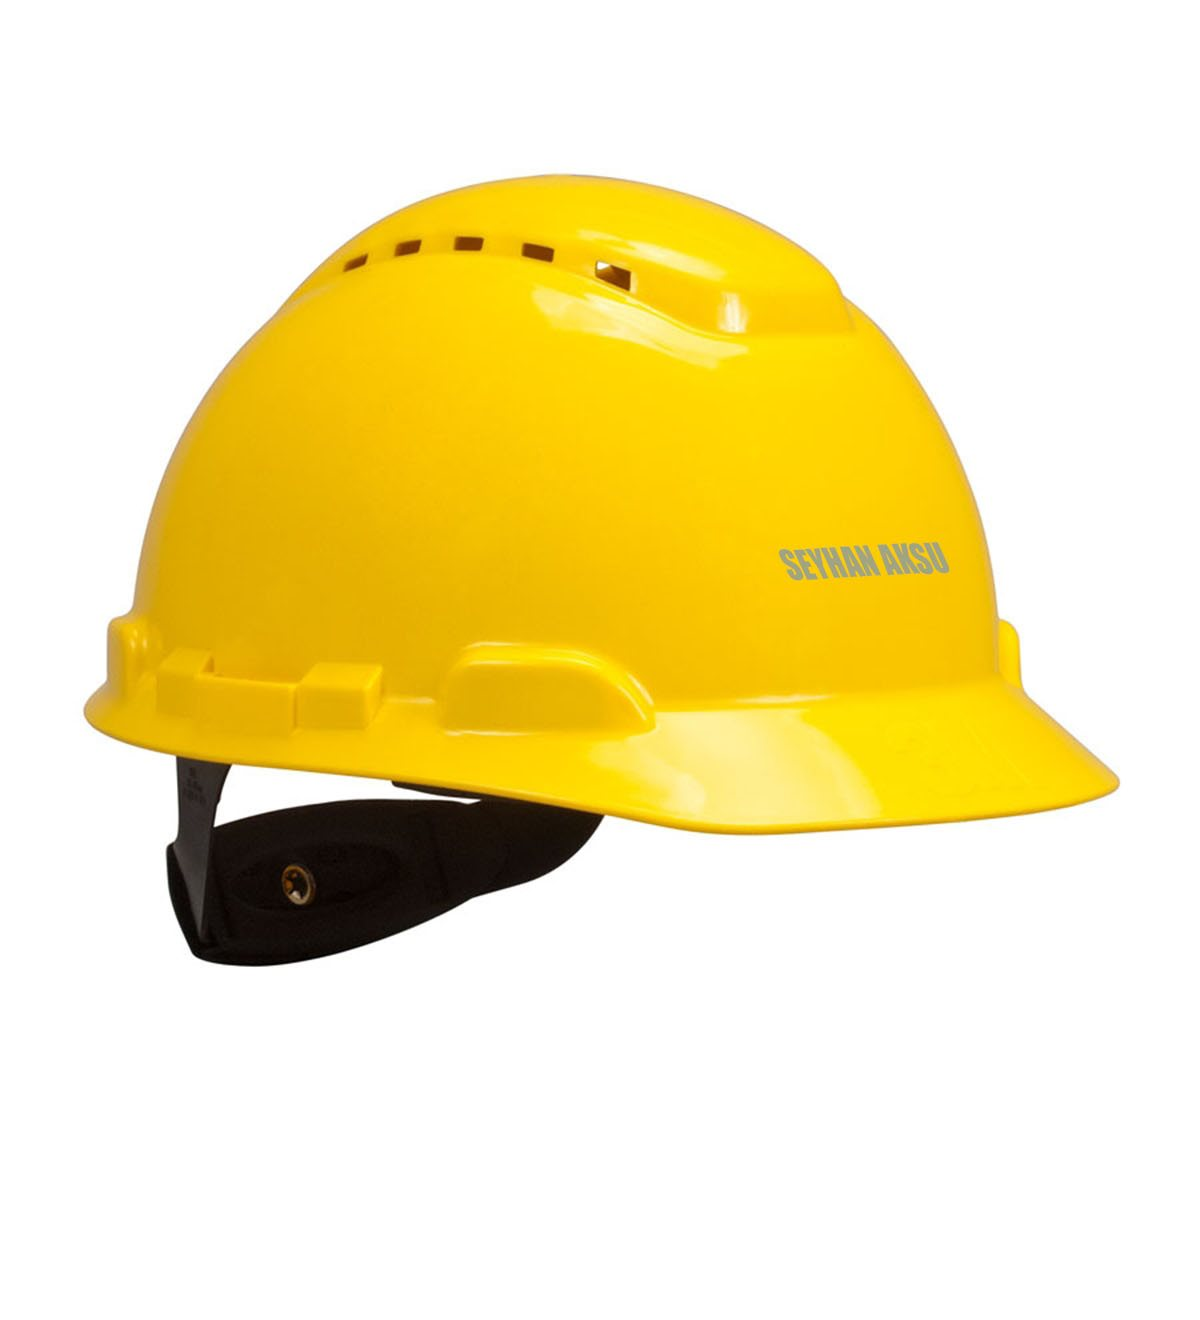baret: (74, 166, 1133, 982)
